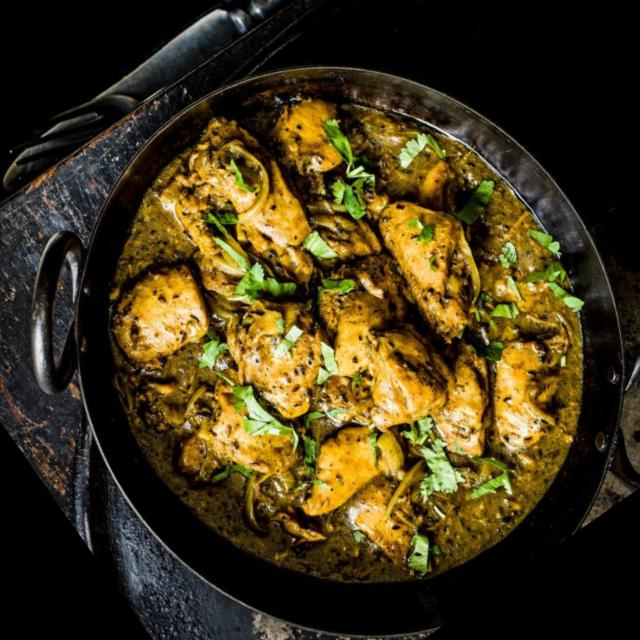chicken: (35, 0, 640, 617)
